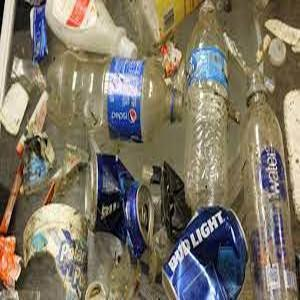Plastic: (243, 73, 297, 300), (46, 57, 184, 142), (186, 0, 231, 207)
